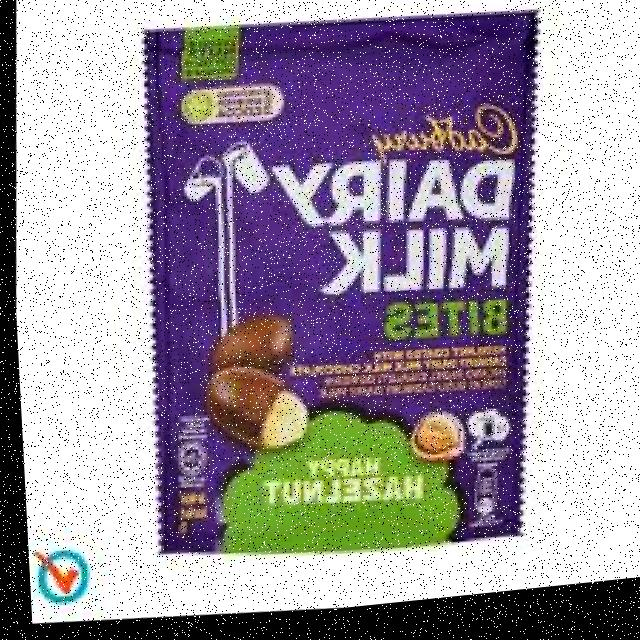cadbury: (123, 2, 559, 585)
